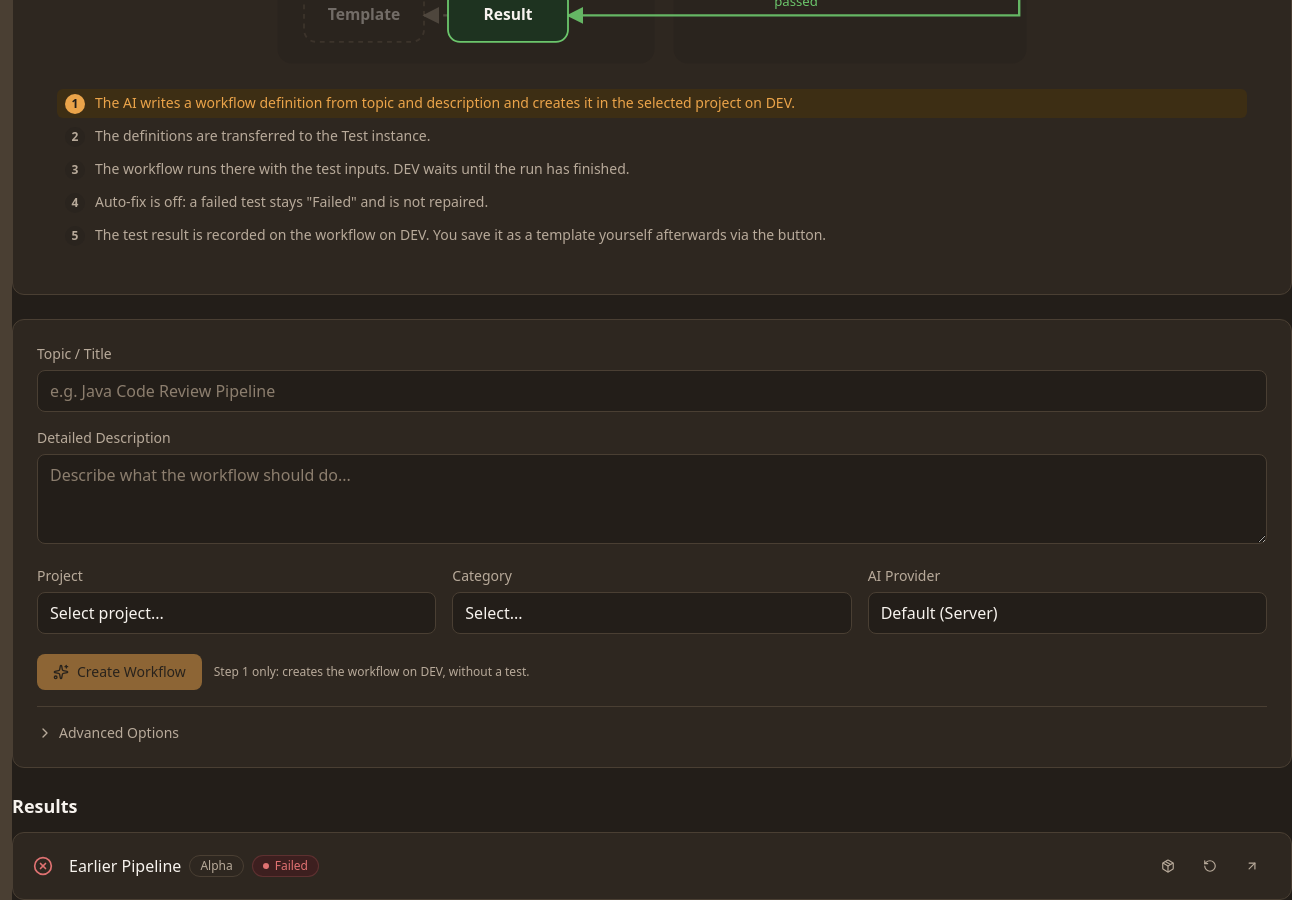
it: WorkflowFactory › lists earlier factory workflows and replaces one by its verification result
The image size is (1292, 900).
(page scrolled)
Expected: the text "Earlier Pipeline" is shown, x1=69 y1=854 x2=181 y2=878
Expected: the text "Failed" is shown, x1=252 y1=855 x2=319 y2=877
Click the button titled "Verify". click: (1210, 866)
box: x1=1191 y1=853 x2=1229 y2=879
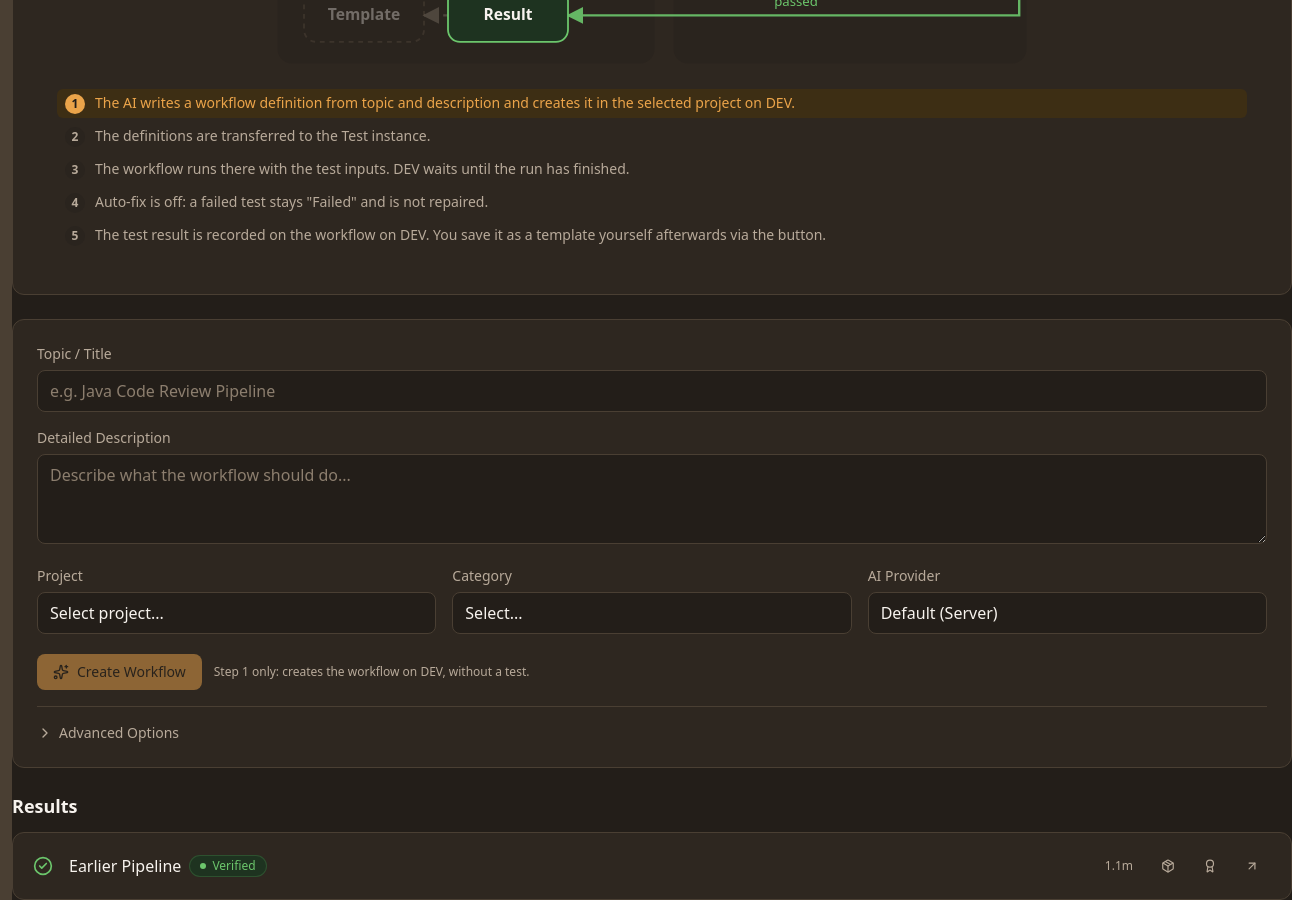
Expected: the text "Earlier Pipeline" is shown once, x1=69 y1=854 x2=181 y2=878
Expected: the text "Verified" is shown, x1=189 y1=855 x2=267 y2=877
Expected: the button titled "Promote as Template" is shown, x1=1191 y1=853 x2=1229 y2=879
